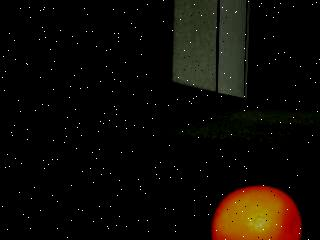Orange: (210, 185, 304, 240)
